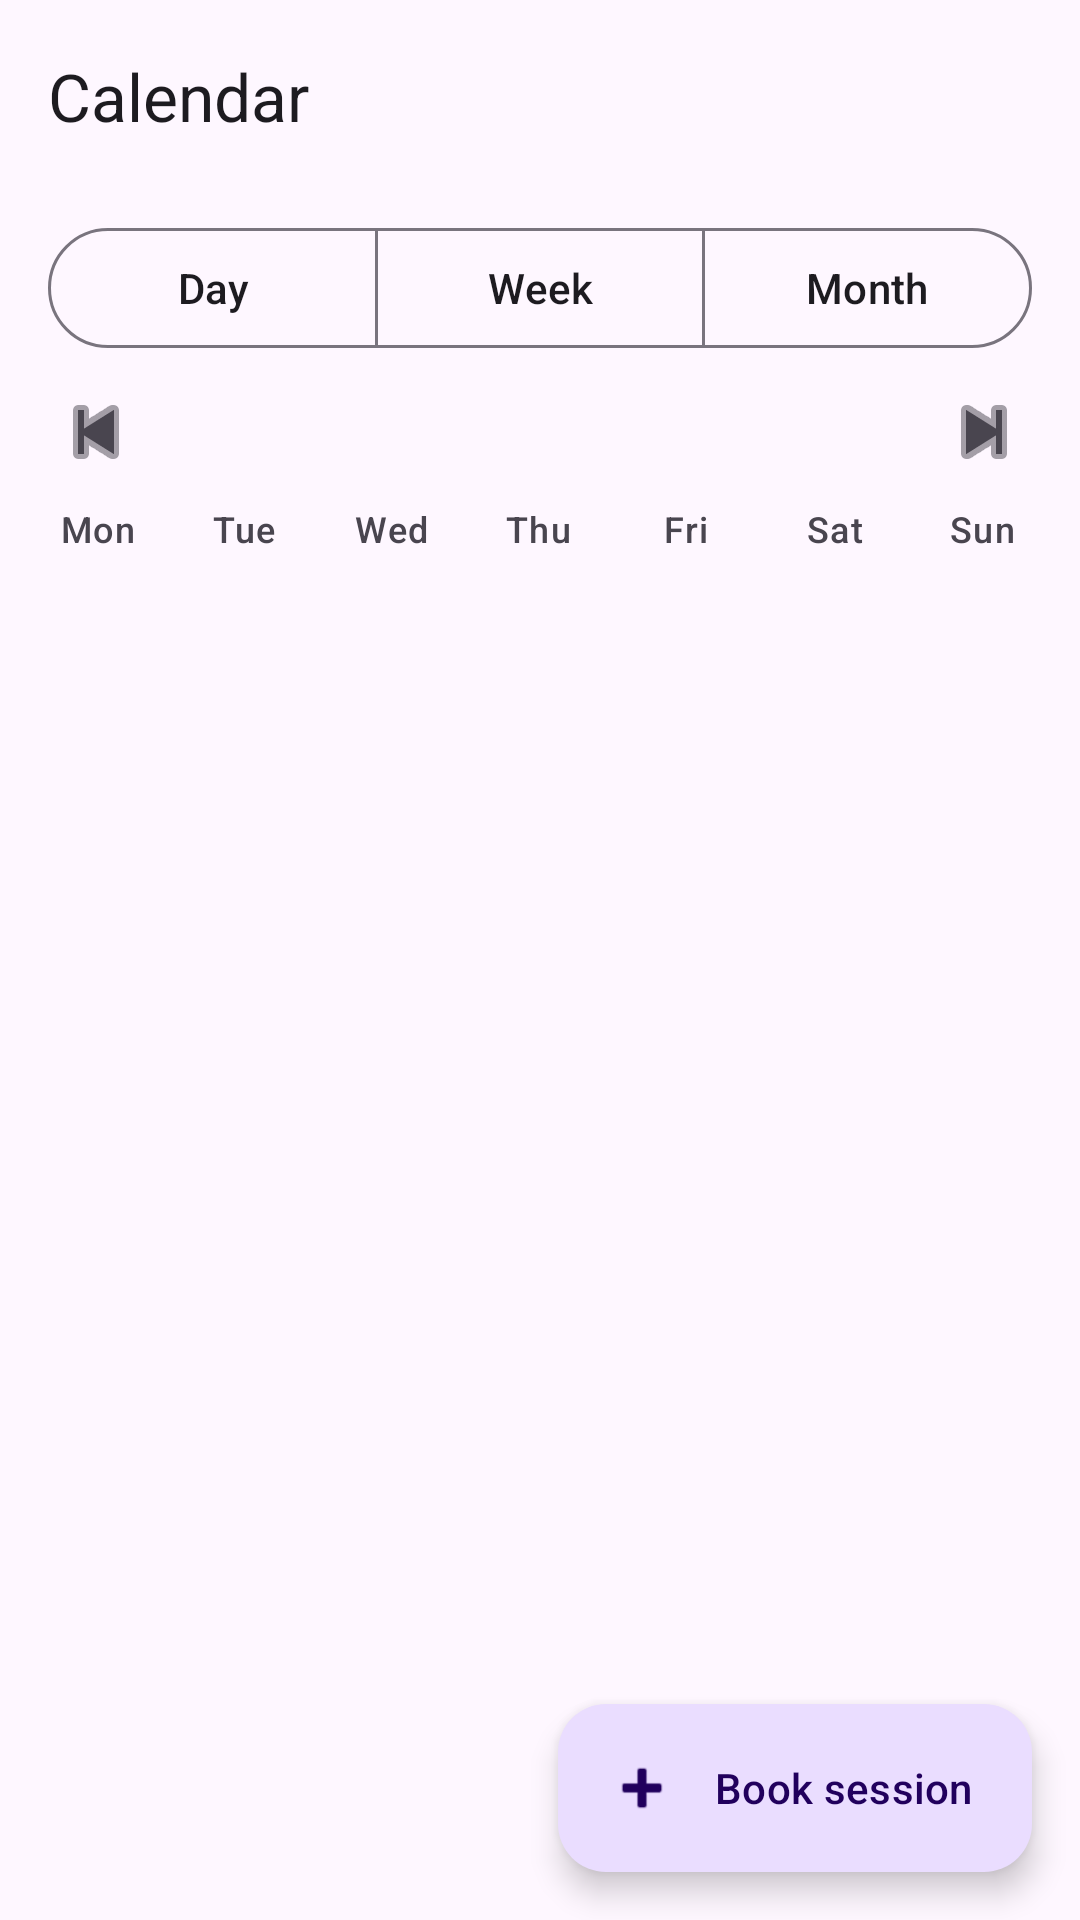

Where to tap for icons on this 1080 × 1920 app screen, as [x,y]:
Next period: [984,432]
Previous period: [96,432]
